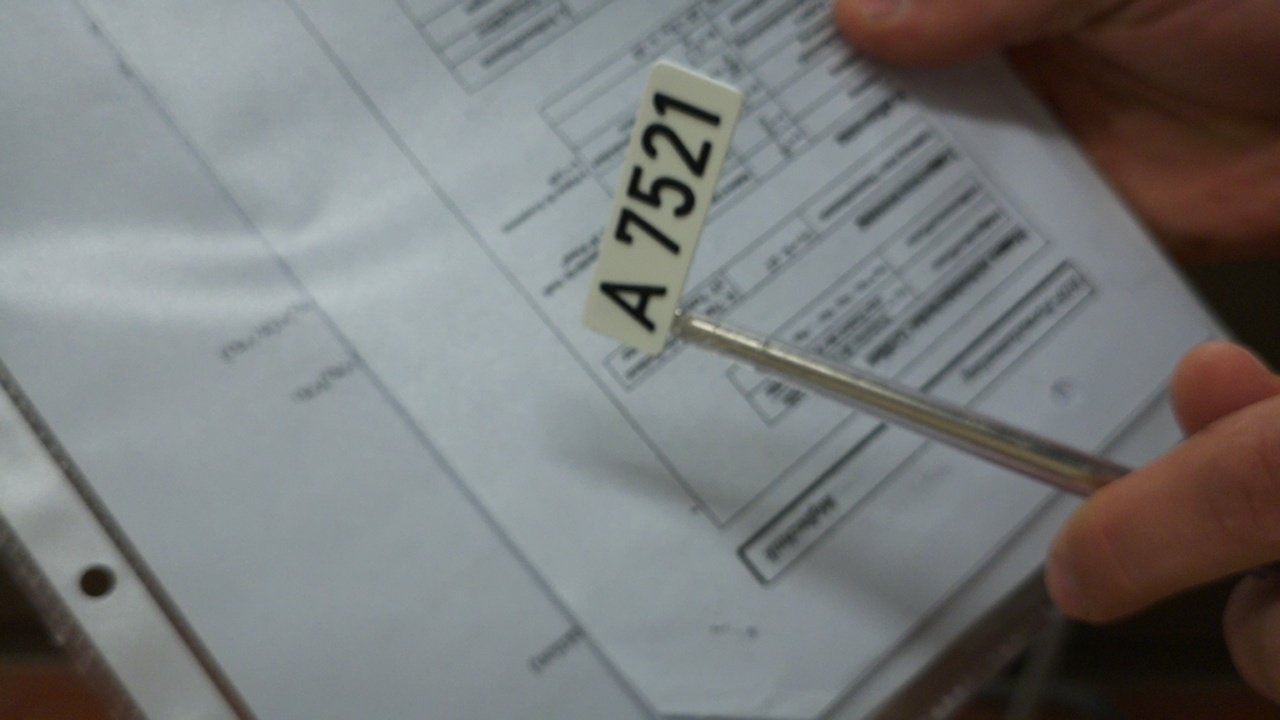license_plate: (574, 42, 750, 370)
